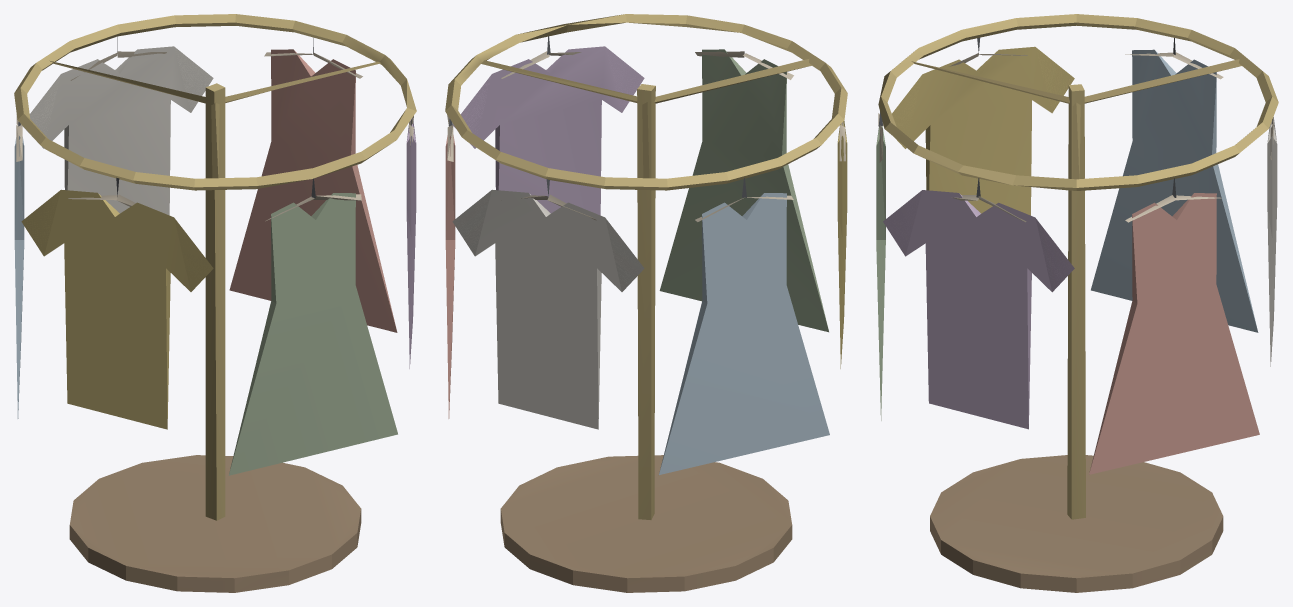
The model's file is wear_rack_round_low.glb.
The picture shows the model from 3 angles, left to right: view 1: azimuth 30°, elevation 25°; view 2: azimuth 150°, elevation 25°; view 3: azimuth 270°, elevation 25°; orthographic projection.
Parts seen in each view (by area): view 1: wear.rack_round; view 2: wear.rack_round; view 3: wear.rack_round.
Boxes of the visible parts, <box> form: wear.rack_round: <box>14,14,416,592</box>; wear.rack_round: <box>445,14,847,592</box>; wear.rack_round: <box>876,14,1278,592</box>.
Bounding box in the file's own units: 1.38 × 1.5 × 1.23.
